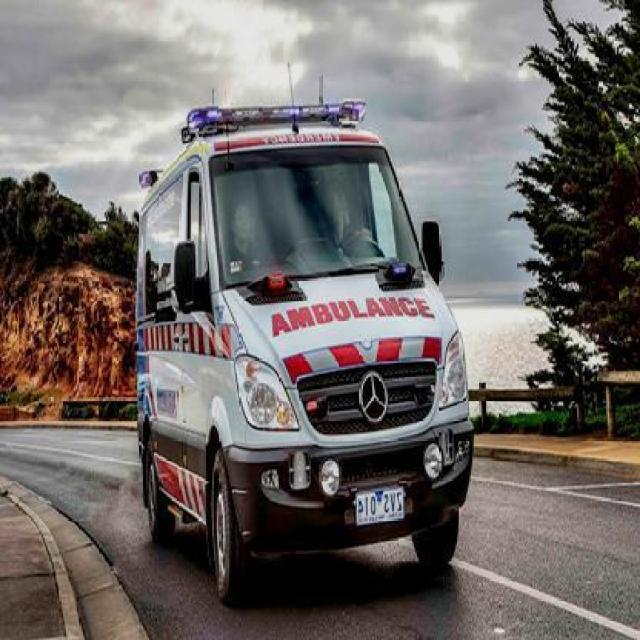emergency: (132, 67, 476, 605)
